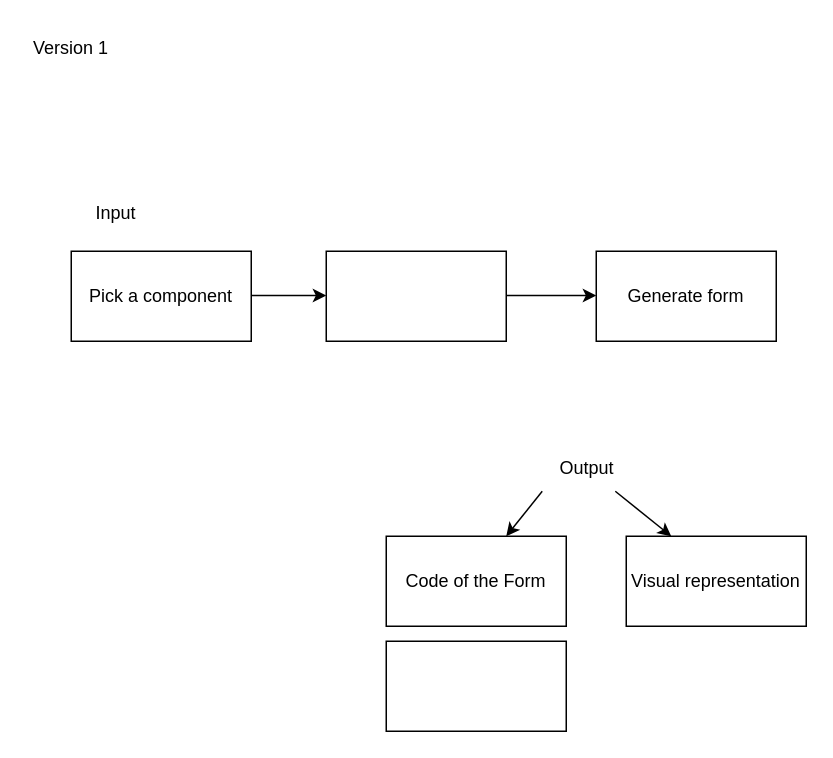
This 833x758 diagram has some shape labels left out. The centre of each missing label's shape, as x and y in pixels:
"Pick a rule or set of rules per component" goes at (415,295).
"Unit tests" goes at (475,685).
